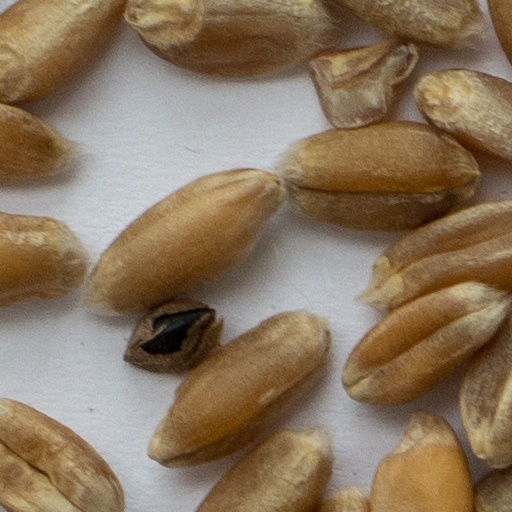Fallopia-Convolvulus-poly: (125, 299, 218, 373)
Wheat-grain-damaged-poly: (311, 42, 416, 128)
Wheat-grain-poly: (81, 170, 282, 315), (0, 399, 122, 511), (0, 213, 87, 307)
